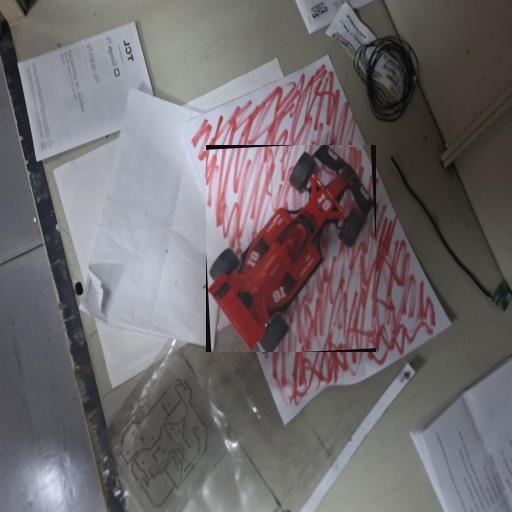carro: (205, 146, 374, 351)
